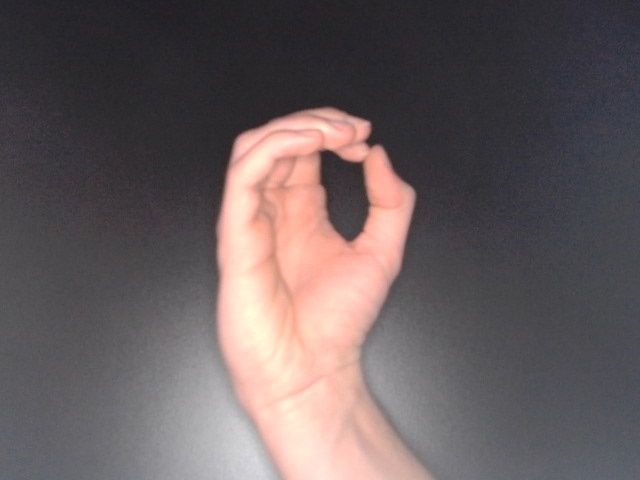o: (207, 100, 420, 438)
